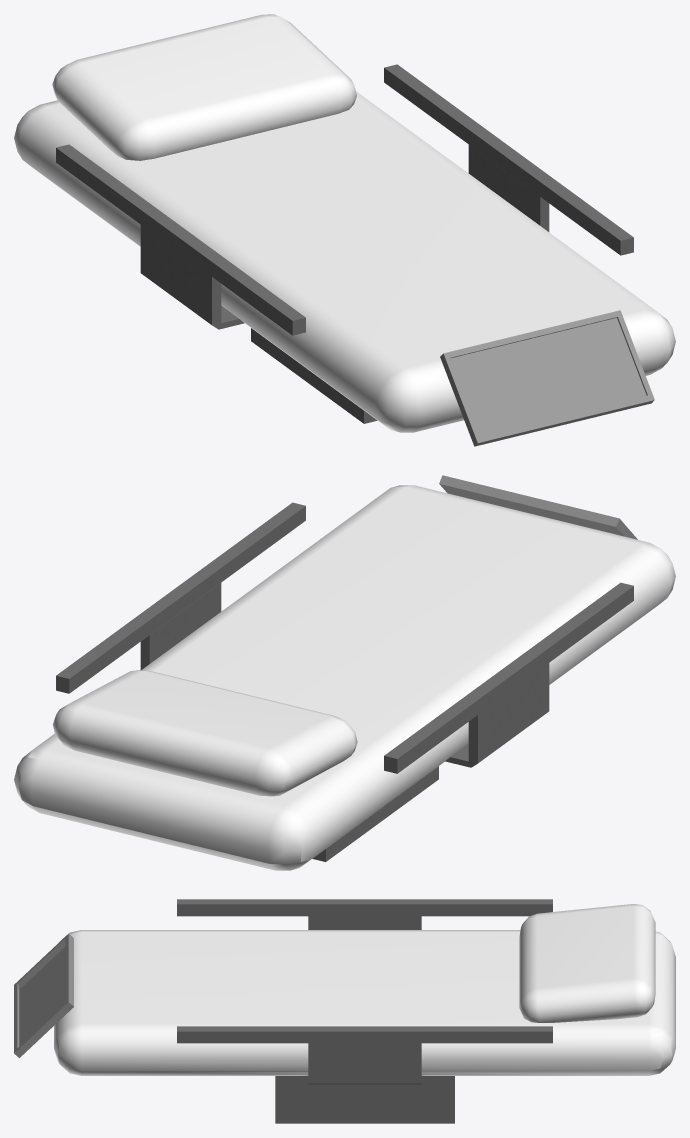
Rendered from Medical_Bed_02.fbx.
The picture shows the model from 3 angles, top to bottom: view 1: azimuth 30°, elevation 25°; view 2: azimuth 150°, elevation 25°; view 3: azimuth 270°, elevation 25°; orthographic projection. The views are drawn at different scales.
Parts seen in each view (by area): view 1: Medical; view 2: Medical; view 3: Medical.
Part boxes in pixels (x1,y1,x2,y2): Medical: [14, 14, 675, 446]; Medical: [14, 475, 675, 870]; Medical: [14, 899, 675, 1123].
Size of the model in its own units: 454 by 267 by 960.
